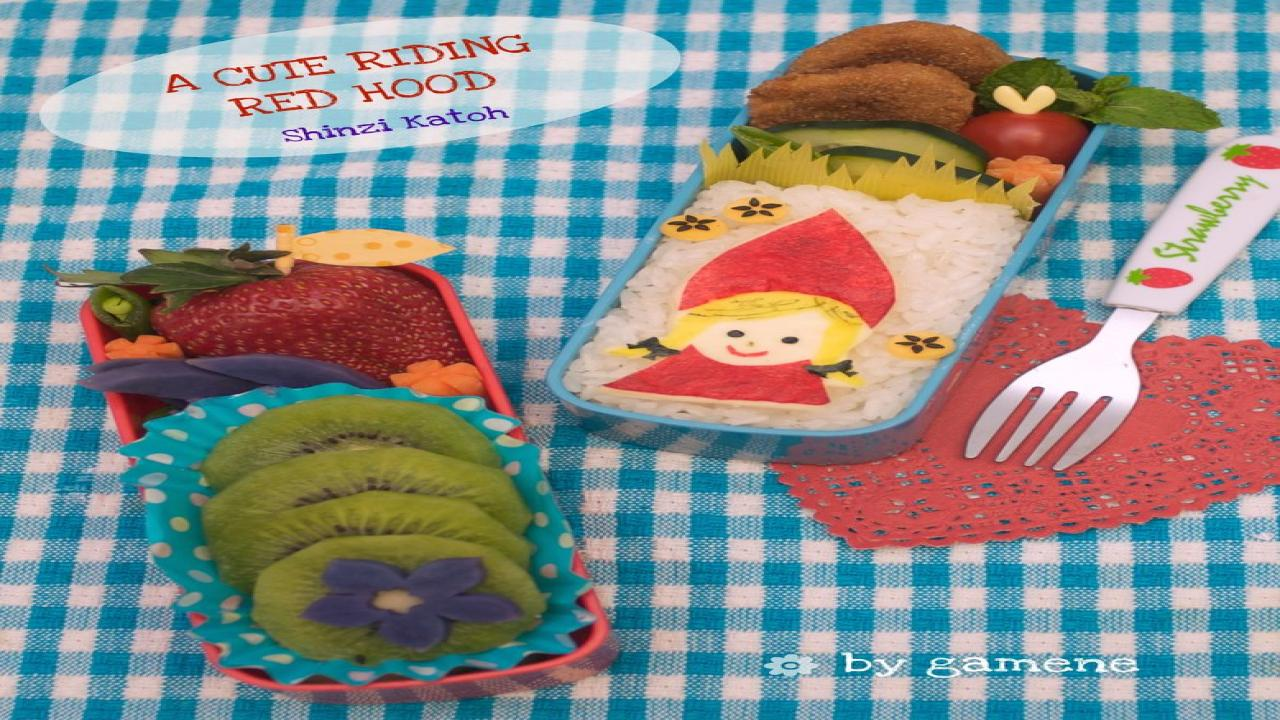fork: (960, 130, 1280, 474)
